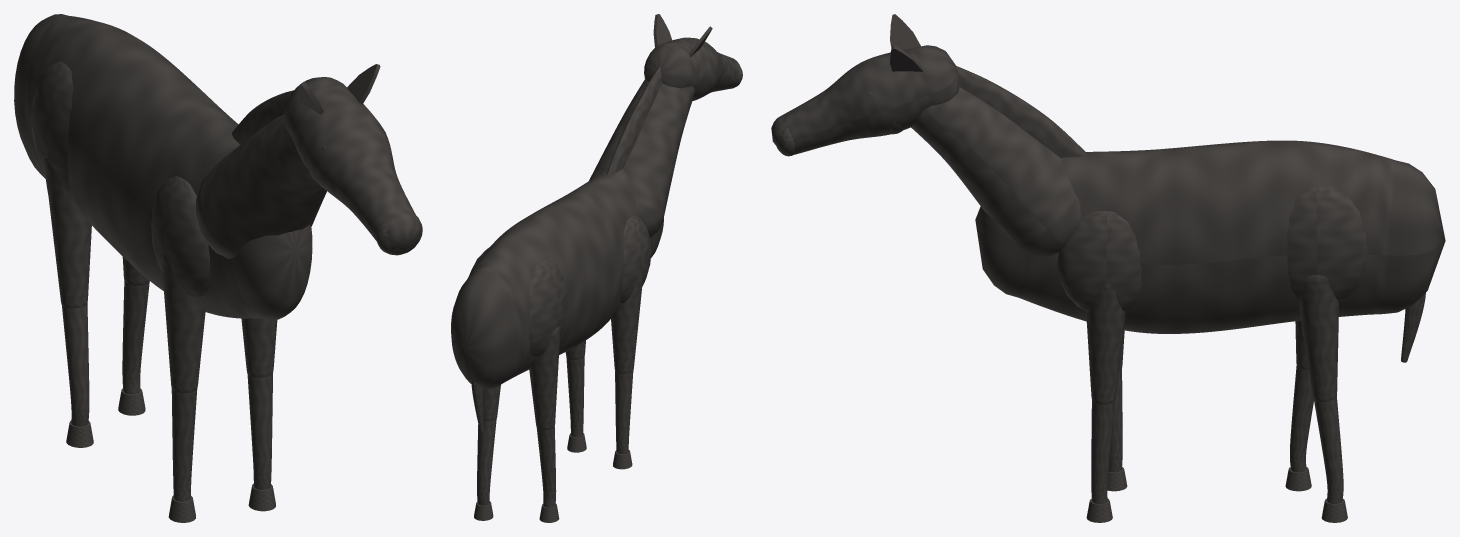
File: farm-and-working-animals-hd-horse-standing-black-c85a616f__29176.glb
3 views of the same model, side by side, from view 1: azimuth 30°, elevation 25°; view 2: azimuth 150°, elevation 25°; view 3: azimuth 270°, elevation 25° (orthographic). The views are drawn at different scales.
Parts seen in each view (by area): view 1: horse-standing-black; view 2: horse-standing-black; view 3: horse-standing-black.
Part boxes in pixels (x1,y1,x2,y2): horse-standing-black: (14, 14, 422, 522); horse-standing-black: (451, 14, 742, 522); horse-standing-black: (771, 14, 1445, 522).
Size of the model in its own units: 0.5076 by 2.16 by 2.8.
Materials: 1 (1 with a texture image).
